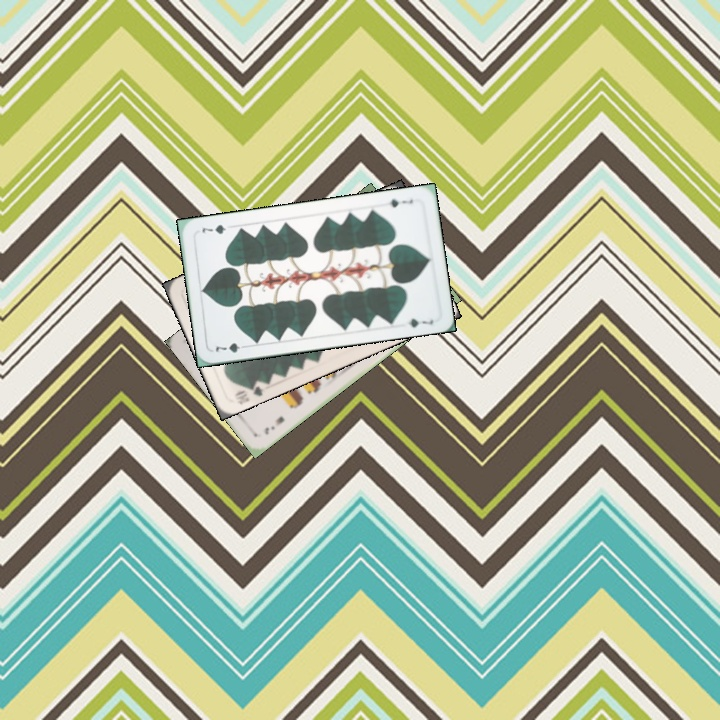E7: (260, 412, 287, 437)
G10: (231, 378, 266, 406)
G7: (211, 338, 251, 355), (380, 195, 415, 210)
